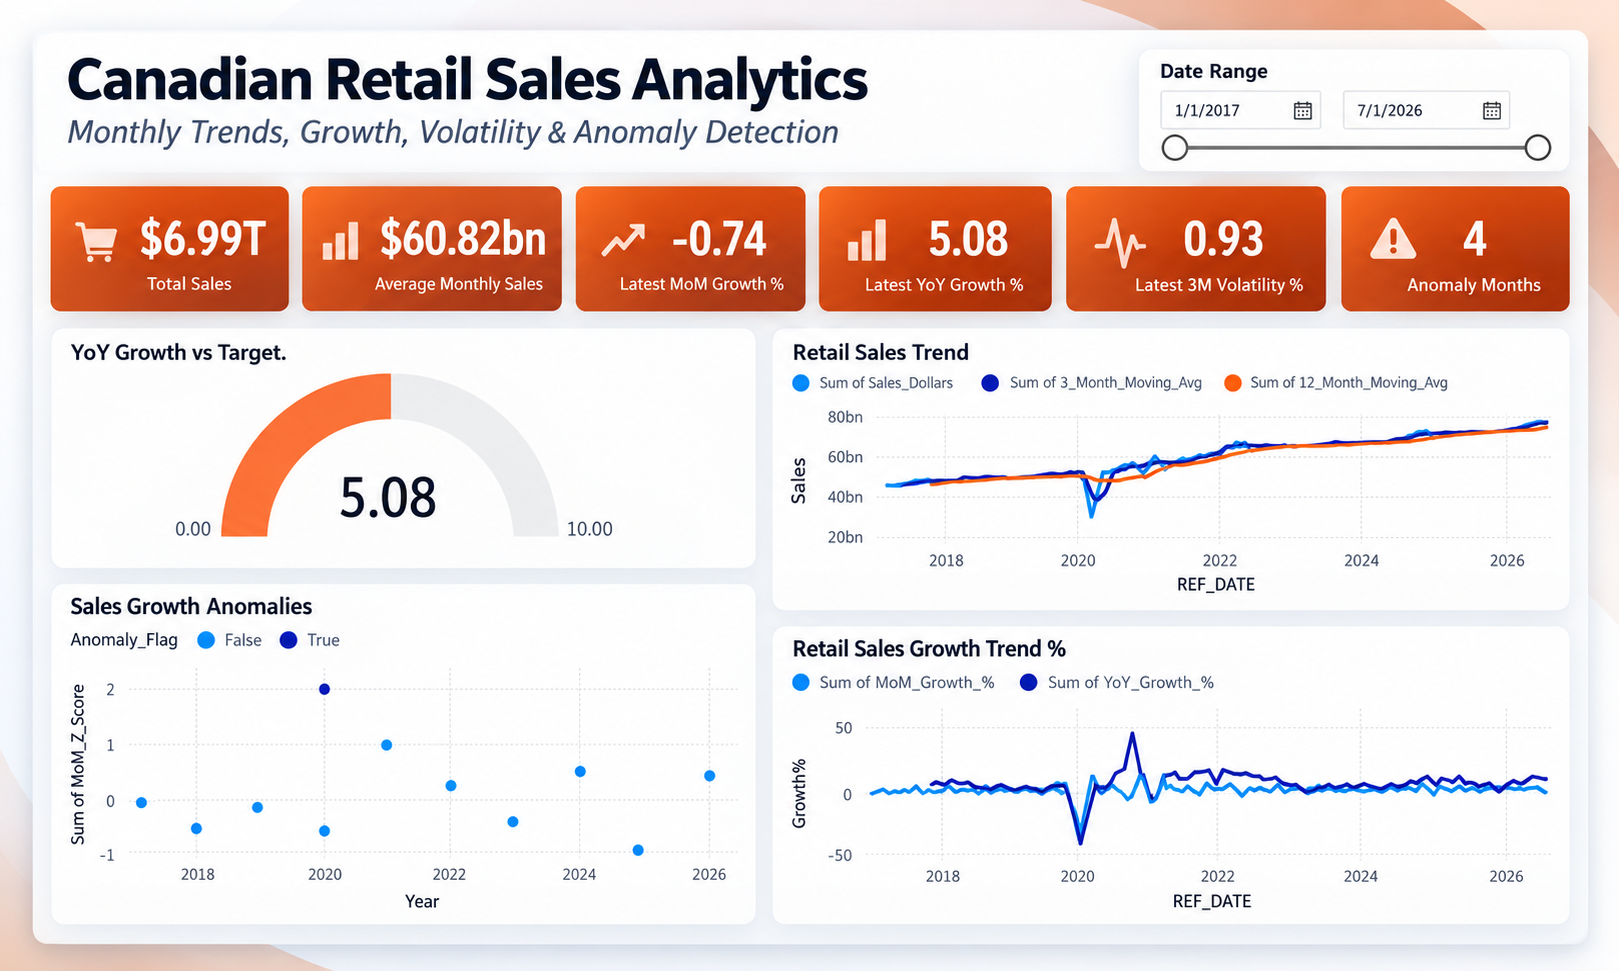

What the dashboard file says about the page in this screenshot:
{"tool":"powerbi","page":{"name":"Retail Analytics","canvas":[1500,900],"ordinal":0},"visuals":[{"type":"card","fields":{"Values":["monthly_sales_analysis.Total Sales"]},"box":[3.9,118.1,230.3,137.8],"z":0},{"type":"card","fields":{"Values":["monthly_sales_analysis.Average Monthly Sales"]},"box":[257.9,118.1,240.2,139.8],"z":1000},{"type":"card","fields":{"Values":["monthly_sales_analysis.Latest MoM Growth %"]},"box":[519.7,118.1,230.3,139.8],"z":2000},{"type":"card","fields":{"Values":["monthly_sales_analysis.Latest YoY Growth %"]},"box":[767.7,116.1,230.3,139.8],"z":3000},{"type":"card","fields":{"Values":["monthly_sales_analysis.Latest 3M Volatility %"]},"box":[1023.6,118.1,230.3,139.8],"z":4000},{"type":"card","fields":{"Values":["monthly_sales_analysis.Anomaly Months"]},"box":[1269.7,118.1,230.3,139.8],"z":5000},{"type":"lineChart","title":"Retail Sales Trend","fields":{"Y":["Sum(monthly_sales_analysis.Sales_Dollars)","Sum(monthly_sales_analysis.3_Month_Moving_Avg)","Sum(monthly_sales_analysis.12_Month_Moving_Avg)"],"Category":["monthly_sales_analysis.REF_DATE"]},"box":[730.8,277.2,768.6,235.8],"z":6000},{"type":"lineChart","title":"Retail Sales Growth Trend %","fields":{"Y":["Sum(monthly_sales_analysis.MoM_Growth_%)","Sum(monthly_sales_analysis.YoY_Growth_%)"],"Category":["monthly_sales_analysis.REF_DATE"]},"box":[730.8,532.8,768.6,367.2],"z":7000},{"type":"scatterChart","title":"Sales Growth Anomalies","fields":{"Y":["Sum(monthly_sales_analysis.MoM_Z_Score)"],"Series":["monthly_sales_analysis.Anomaly_Flag"],"X":["monthly_sales_analysis.REF_DATE.Variation.Date Hierarchy.Year","monthly_sales_analysis.REF_DATE.Variation.Date Hierarchy.Quarter","monthly_sales_analysis.REF_DATE.Variation.Date Hierarchy.Month","monthly_sales_analysis.REF_DATE.Variation.Date Hierarchy.Day"]},"box":[3.6,464.4,639,435.6],"z":8000},{"type":"slicer","title":"Date Range","fields":{"Values":["monthly_sales_analysis.REF_DATE"]},"box":[1141.2,0,343.8,117],"z":9000},{"type":"gauge","title":"YoY Growth vs Target.","fields":{"Y":["monthly_sales_analysis.Latest YoY Growth %"],"TargetValue":["Sum(monthly_sales_analysis.YoY_Growth_%)"]},"box":[3.6,277.2,334.8,167.4],"z":10000},{"type":"textbox","box":[3.6,0,1067.4,99],"z":11000}]}

Visuals, with their boxes in screenshot pixels (x1, y1, x2, y2), scaled from the page's 1500x900 canvas onto the 1619x971 screenshot:
card - monthly_sales_analysis.Total Sales: <region>4, 127, 253, 276</region>
card - monthly_sales_analysis.Average Monthly Sales: <region>278, 127, 538, 278</region>
card - monthly_sales_analysis.Latest MoM Growth %: <region>561, 127, 809, 278</region>
card - monthly_sales_analysis.Latest YoY Growth %: <region>829, 125, 1077, 276</region>
card - monthly_sales_analysis.Latest 3M Volatility %: <region>1105, 127, 1353, 278</region>
card - monthly_sales_analysis.Anomaly Months: <region>1370, 127, 1618, 278</region>
"Retail Sales Trend" lineChart: <region>789, 299, 1618, 553</region>
"Retail Sales Growth Trend %" lineChart: <region>789, 575, 1618, 970</region>
"Sales Growth Anomalies" scatterChart: <region>4, 501, 694, 970</region>
"Date Range" slicer: <region>1232, 0, 1603, 126</region>
"YoY Growth vs Target." gauge: <region>4, 299, 365, 480</region>
textbox: <region>4, 0, 1156, 107</region>
